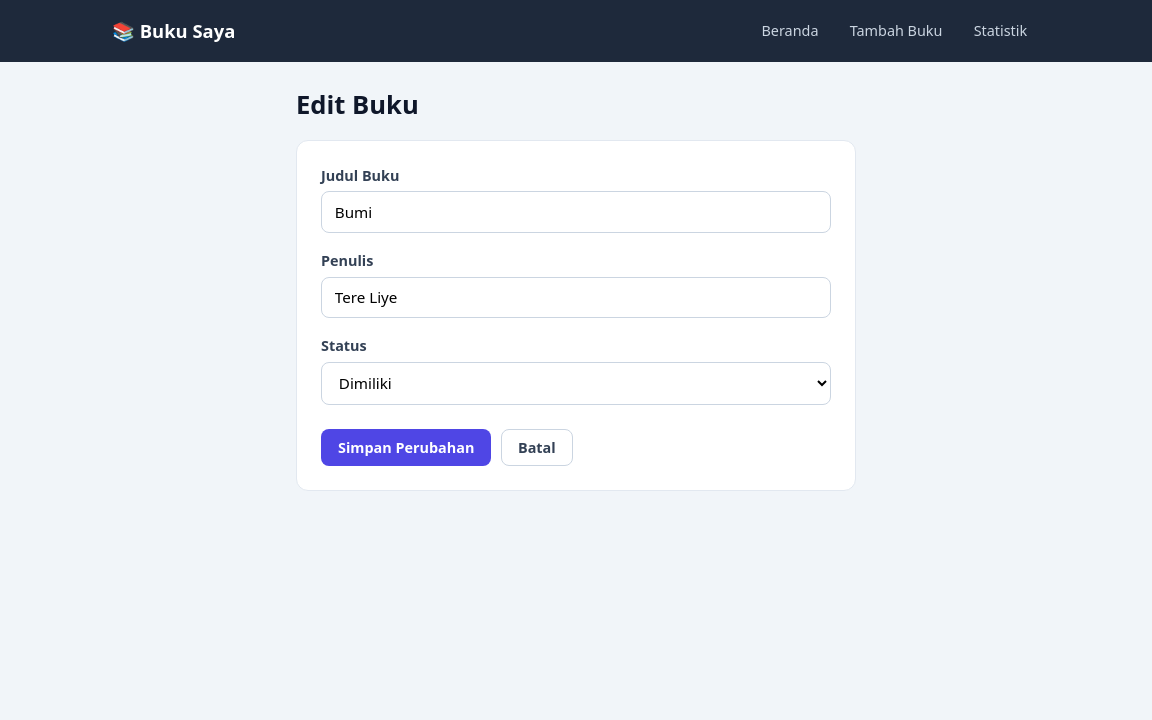
Test: Aplikasi manajemen buku (integrasi) › mengedit buku yang sudah ada
Replace the text in the field labelled "Judul Buku" with "Bulan": (576, 212) [321,191,831,233]
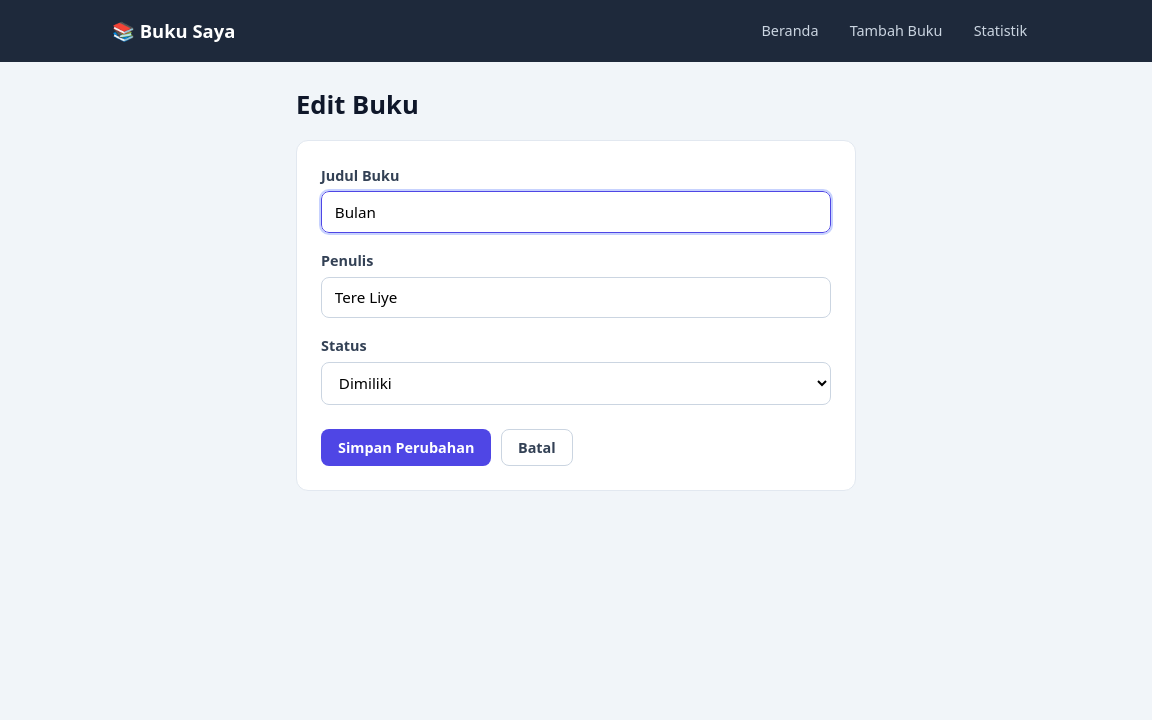
Click the button "Simpan Perubahan": (406, 447) [321,429,491,466]
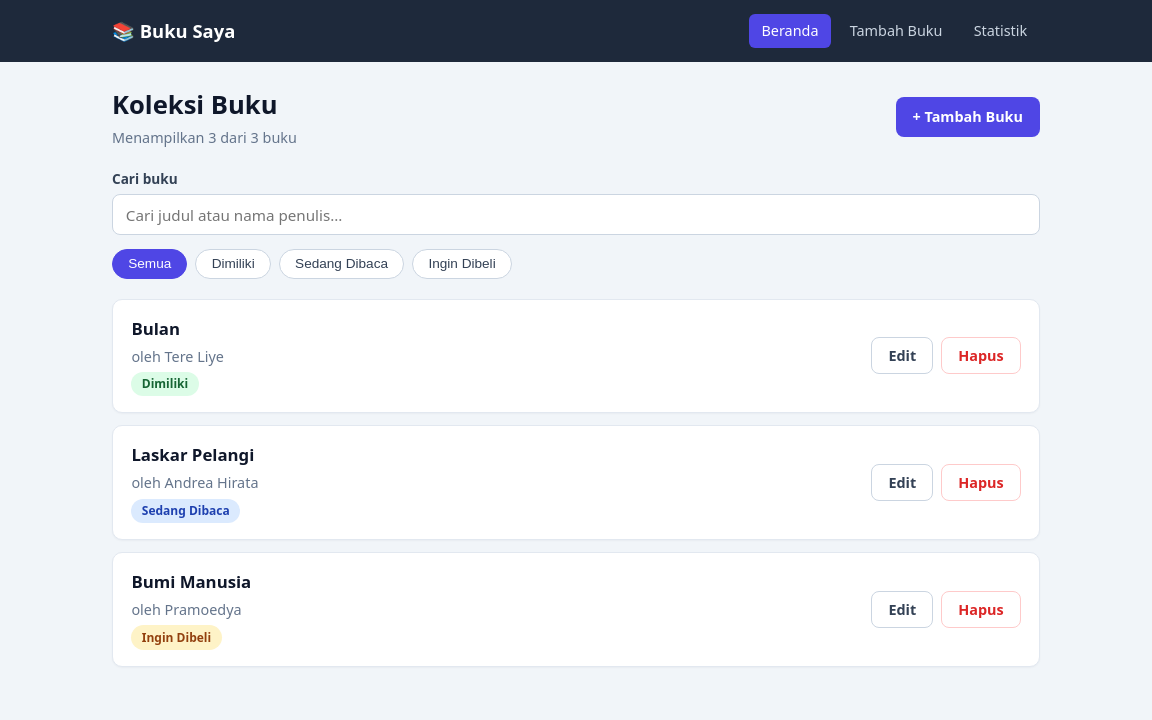
expect the heading "Bulan" is shown: met, box [131,316,180,341]
expect the heading "Bumi Manusia" is shown: met, box [131,569,251,594]
